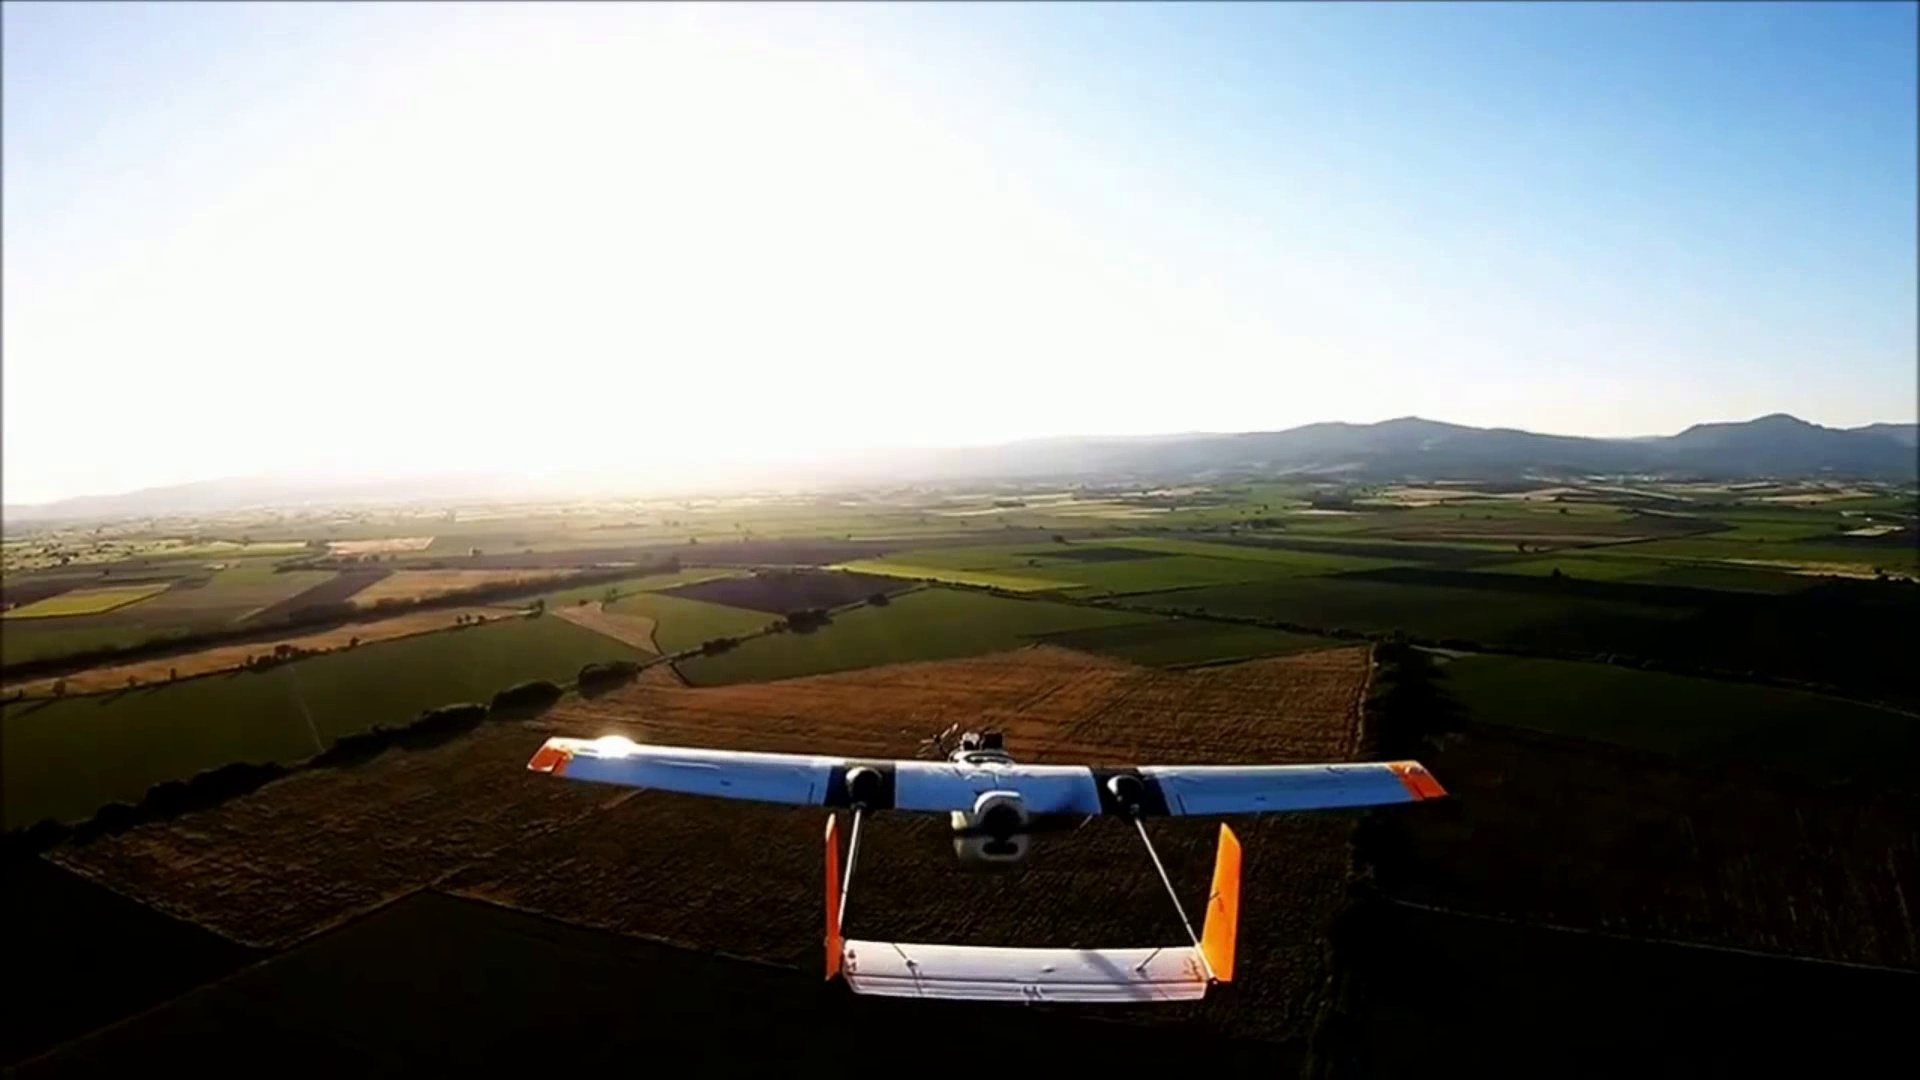airplane: (530, 732, 1447, 1005)
